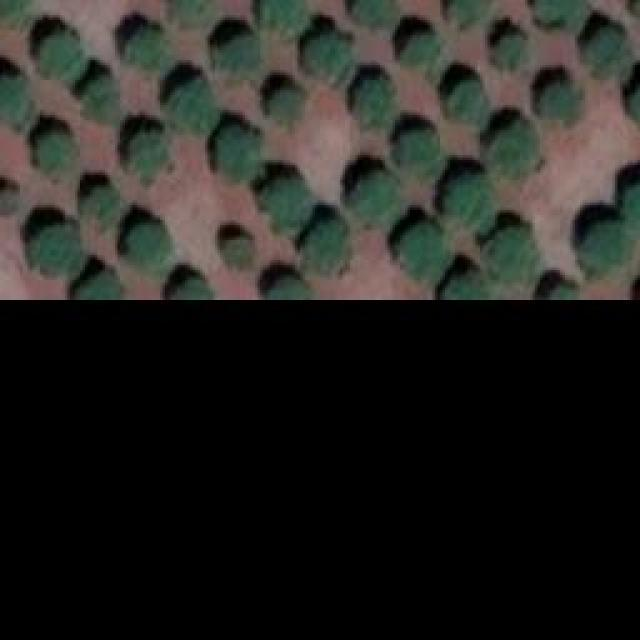Tree: (443, 175, 493, 230), (165, 80, 218, 130), (255, 178, 308, 228), (395, 220, 443, 273), (302, 218, 350, 271), (30, 223, 78, 276), (483, 228, 533, 278), (218, 125, 261, 180), (355, 172, 403, 220), (392, 127, 440, 175), (125, 220, 170, 270), (120, 132, 165, 180), (585, 30, 630, 78), (583, 220, 628, 268), (38, 30, 81, 80), (490, 123, 533, 173), (540, 80, 585, 125), (210, 35, 255, 78), (308, 32, 348, 80), (125, 28, 163, 73), (355, 0, 400, 38), (535, 0, 595, 28), (450, 77, 485, 125), (40, 130, 78, 173), (0, 70, 30, 120), (490, 32, 528, 70), (257, 0, 305, 30), (440, 270, 488, 298), (83, 80, 118, 118), (403, 30, 438, 63), (83, 185, 118, 218), (360, 80, 390, 118), (620, 175, 640, 230), (270, 90, 305, 120), (80, 273, 118, 298), (172, 0, 215, 22), (220, 238, 250, 268), (270, 275, 303, 298), (452, 0, 485, 22), (175, 278, 210, 298), (0, 0, 30, 22), (0, 188, 20, 218), (545, 280, 568, 298)
